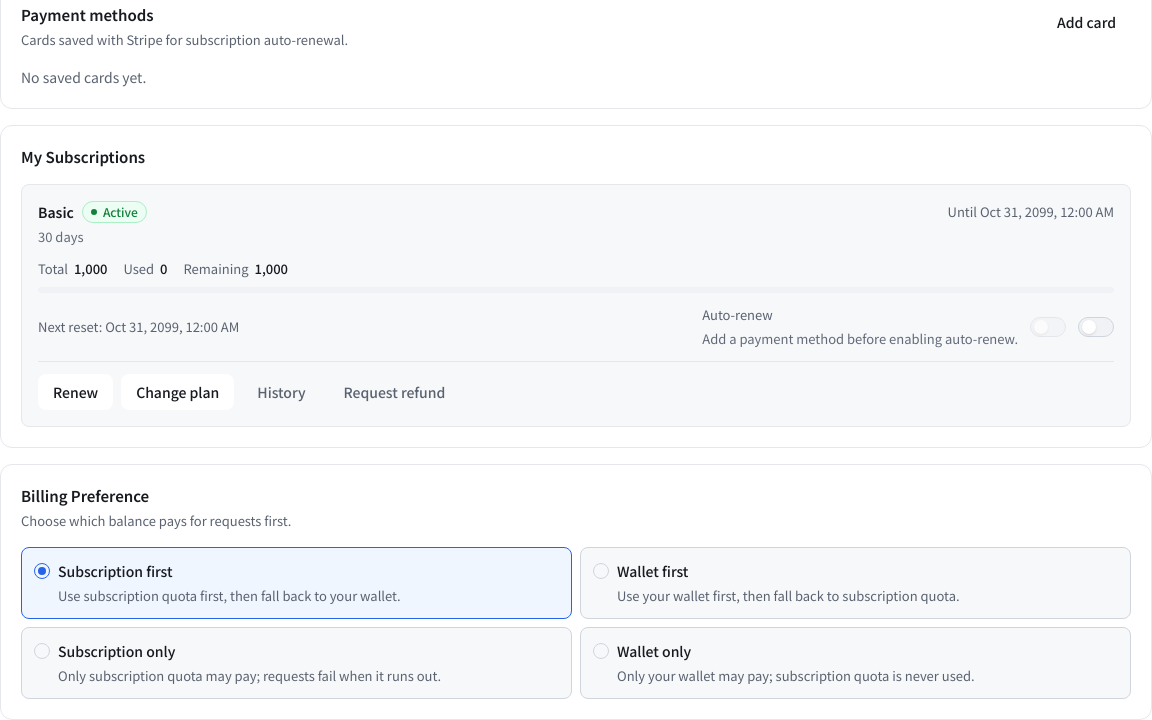
Scenario: renewal › activates a zero-price renewal immediately without a checkout
(page scrolled)
Click the button with aria-label "Renew: Basic" at (76, 392), box [38,374,113,410]
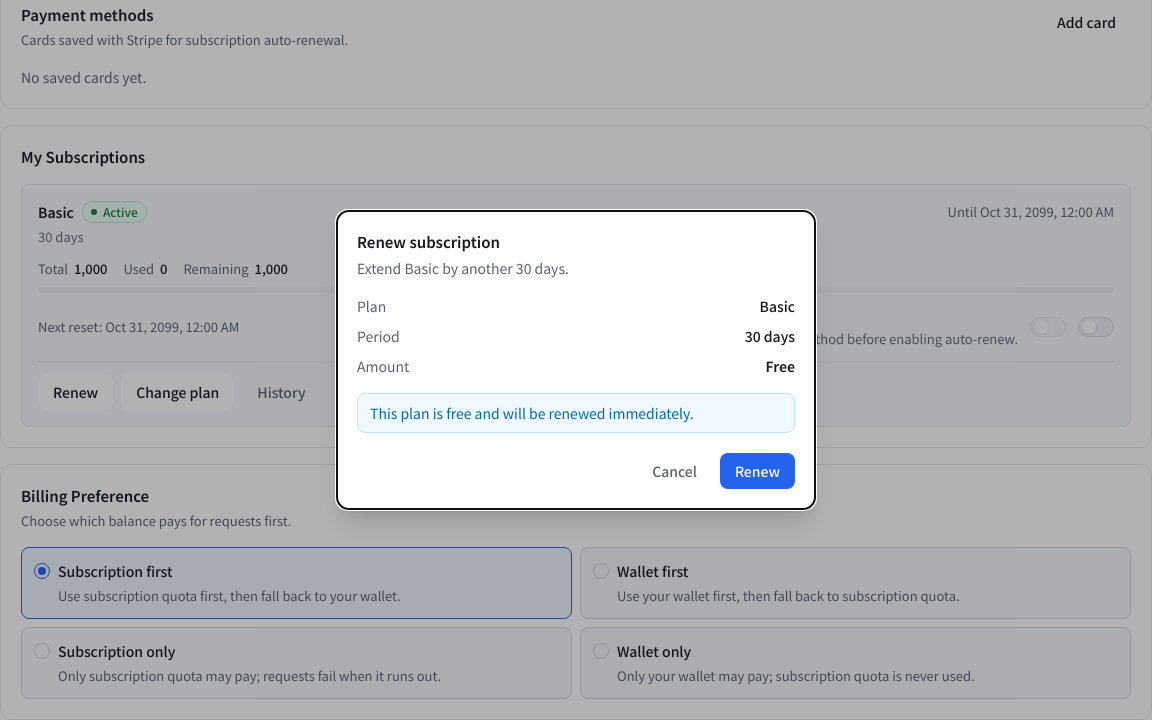
Expected: the text "This plan is free and will be renewed immediately." is shown, [357,393,795,433]
Click the button "Renew" at (757, 471), box [720,453,795,489]
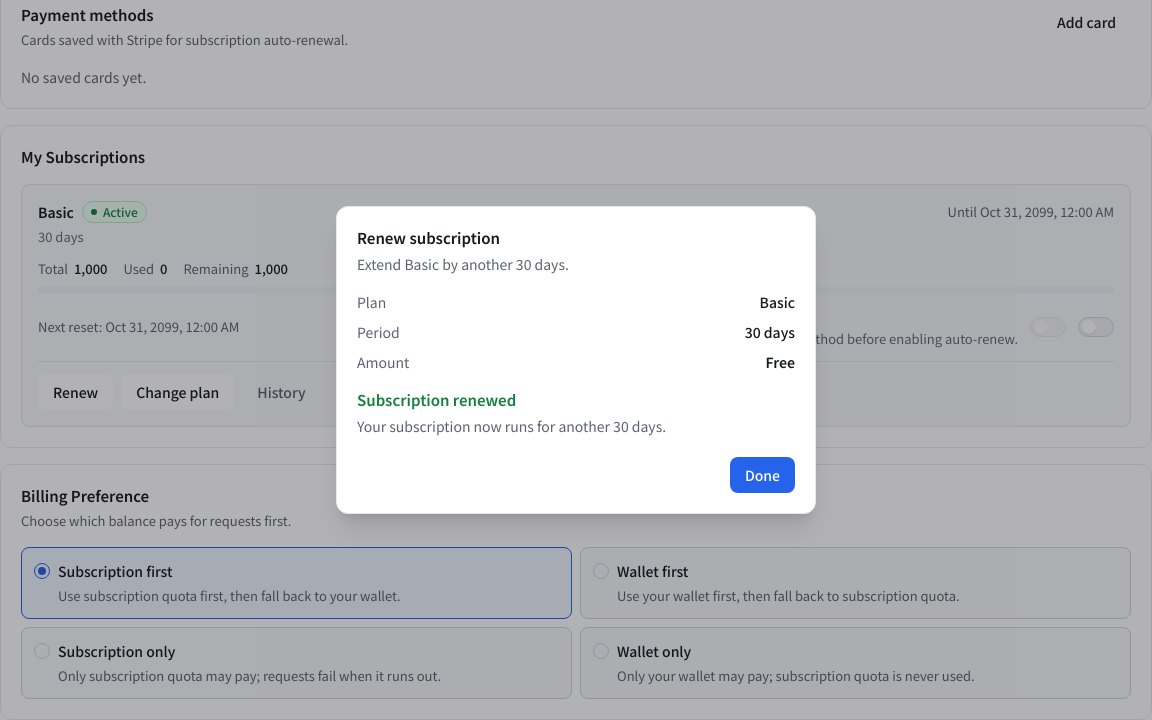
Expected: the text "Subscription renewed" is shown, [357,389,516,410]
Expected: the button "Done" is shown, [730,457,795,493]
